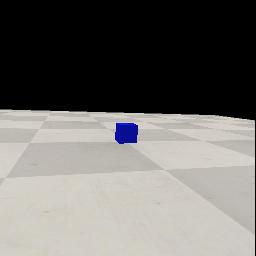box: (115, 123, 138, 144)
